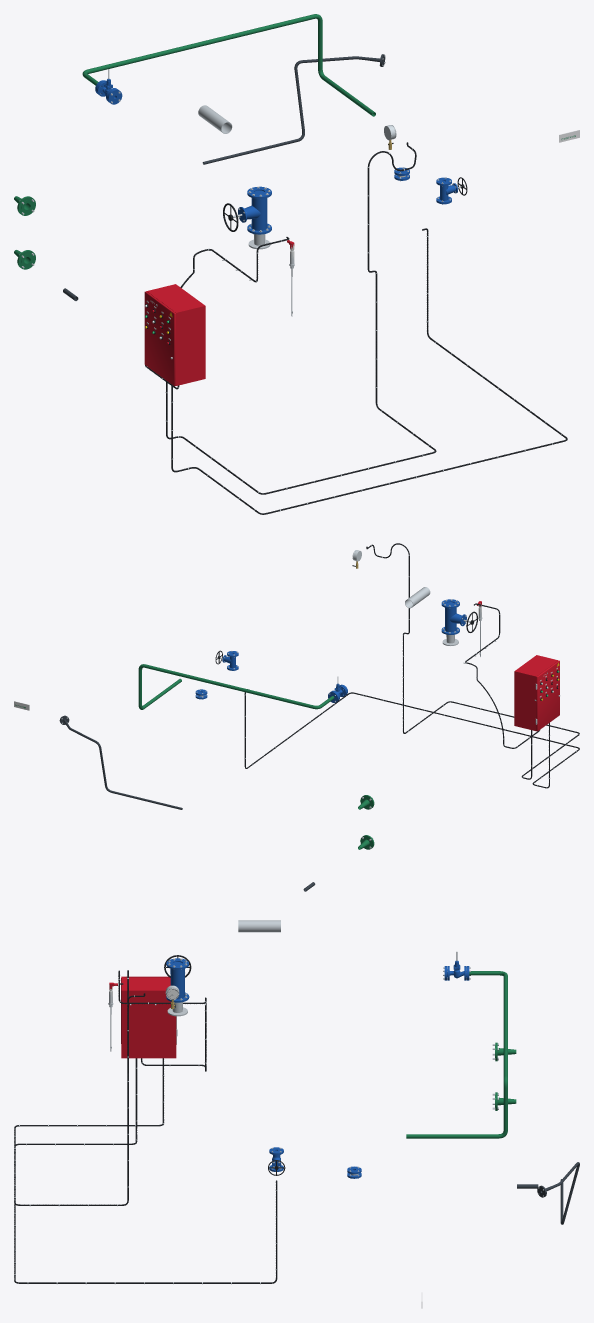
The model's file is s4000-4-nSEmfCq3.glb.
3 renders of one model, top to bottom at view 1: azimuth 30°, elevation 25°; view 2: azimuth 150°, elevation 25°; view 3: azimuth 270°, elevation 25°, orthographic. The views are drawn at different scales.
Parts seen in each view (by area): view 1: control_cabinet / control_cabinet_0.npz, cabinet_door / cabinet_door_5.npz, to_direct / green, wiring_pressure_transmitter / black, wiring_pump_1 / black, steam_manual / blue, tds_without_fv / dark, eco_inlet_adapter / green; view 2: control_cabinet / control_cabinet_0.npz, cabinet_door / cabinet_door_5.npz, to_direct / green, wiring_pump_1 / black, wiring_pressure_transmitter / black, steam_manual / blue, tds_without_fv / dark; view 3: control_cabinet / control_cabinet_0.npz, to_direct / green, wiring_pump_1 / black, wiring_pressure_transmitter / black, steam_manual / blue, tds_without_fv / dark, gpz_bypass / steel, wiring_low_level_2 / black.
Boxes of the visible parts, x1,y1,x2,y2 form: control_cabinet / control_cabinet_0.npz: [146, 284, 205, 385]; cabinet_door / cabinet_door_5.npz: [144, 291, 175, 386]; to_direct / green: [82, 14, 375, 116]; wiring_pressure_transmitter / black: [166, 142, 436, 494]; wiring_pump_1 / black: [171, 228, 567, 514]; steam_manual / blue: [238, 186, 271, 234]; tds_without_fv / dark: [202, 54, 385, 164]; eco_inlet_adapter / green: [14, 196, 35, 269]; control_cabinet / control_cabinet_0.npz: [514, 655, 557, 730]; cabinet_door / cabinet_door_5.npz: [536, 660, 560, 731]; to_direct / green: [138, 664, 334, 709]; wiring_pump_1 / black: [244, 689, 579, 788]; wiring_pressure_transmitter / black: [366, 543, 579, 779]; steam_manual / blue: [441, 599, 466, 634]; tds_without_fv / dark: [59, 715, 182, 809]; control_cabinet / control_cabinet_0.npz: [121, 977, 177, 1058]; to_direct / green: [406, 971, 507, 1138]; wiring_pump_1 / black: [14, 1058, 277, 1283]; wiring_pressure_transmitter / black: [14, 970, 164, 1205]; steam_manual / blue: [166, 958, 189, 1002]; tds_without_fv / dark: [537, 1162, 579, 1224]; gpz_bypass / steel: [238, 920, 280, 932]; wiring_low_level_2 / black: [118, 970, 206, 1071].
Bounding box in the file's own units: 5.88 × 2.84 × 5.45.
